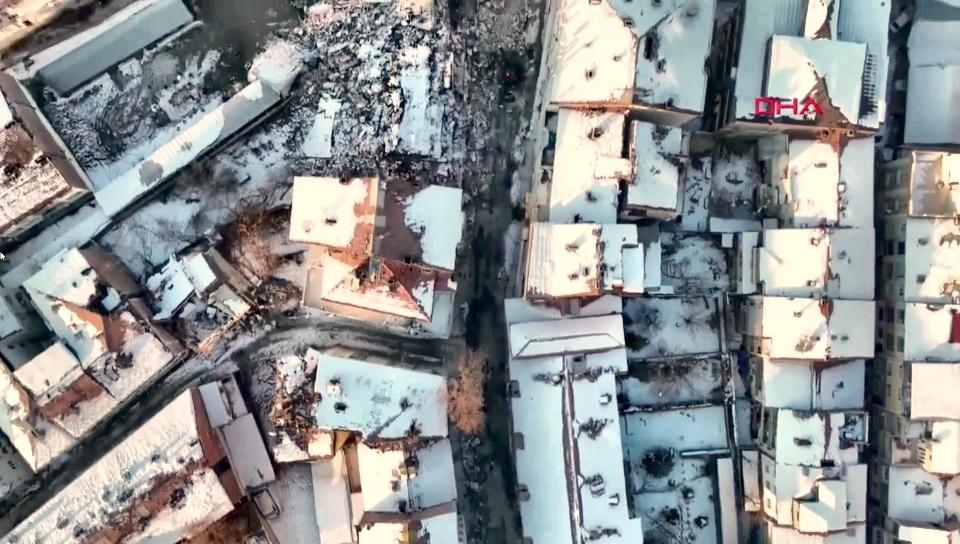kapali: (462, 0, 549, 218)
